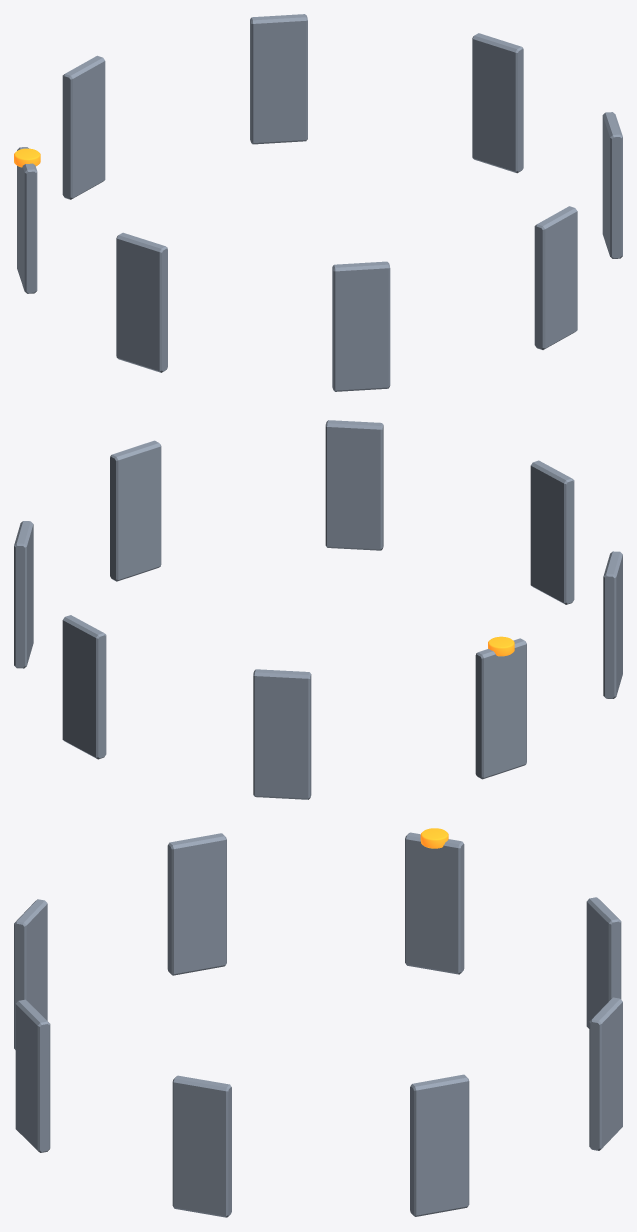
File: tower_overclock_efficiency_s2.glb
3 renders of one model, top to bottom at view 1: azimuth 30°, elevation 25°; view 2: azimuth 150°, elevation 25°; view 3: azimuth 270°, elevation 25°, orthographic. The views are drawn at different scales.
Parts seen in each view (by area): view 1: overclock_base_fin6, overclock_base_fin2, overclock_base_fin7, overclock_base_fin3, overclock_base_fin1, overclock_base_fin5, overclock_base_fin4, overclock_base_fin0; view 2: overclock_base_fin1, overclock_base_fin5, overclock_base_fin4, overclock_base_fin0, overclock_base_fin2, overclock_base_fin6, overclock_base_fin3, overclock_base_fin7; view 3: overclock_base_fin4, overclock_base_fin3, overclock_base_fin7, overclock_base_fin0, overclock_base_fin5, overclock_base_fin2, overclock_base_fin1, overclock_base_fin6.
Boxes of the visible parts, bbox=[...] form: overclock_base_fin6: bbox=[332, 261, 390, 391]; overclock_base_fin2: bbox=[250, 14, 307, 144]; overclock_base_fin7: bbox=[116, 232, 167, 372]; overclock_base_fin3: bbox=[472, 33, 523, 173]; overclock_base_fin1: bbox=[62, 55, 105, 199]; overclock_base_fin5: bbox=[534, 206, 577, 349]; overclock_base_fin4: bbox=[602, 112, 622, 258]; overclock_base_fin0: bbox=[17, 147, 37, 293]; overclock_base_fin1: bbox=[253, 669, 311, 799]; overclock_base_fin5: bbox=[325, 420, 383, 550]; overclock_base_fin4: bbox=[110, 440, 161, 581]; overclock_base_fin0: bbox=[475, 638, 526, 779]; overclock_base_fin2: bbox=[62, 615, 106, 759]; overclock_base_fin6: bbox=[530, 460, 574, 604]; overclock_base_fin3: bbox=[14, 521, 33, 668]; overclock_base_fin7: bbox=[603, 551, 622, 698]; overclock_base_fin4: bbox=[172, 1075, 231, 1217]; overclock_base_fin3: bbox=[410, 1074, 469, 1216]; overclock_base_fin7: bbox=[167, 833, 226, 975]; overclock_base_fin0: bbox=[405, 832, 464, 974]; overclock_base_fin5: bbox=[15, 999, 50, 1152]; overclock_base_fin2: bbox=[589, 997, 622, 1150]; overclock_base_fin1: bbox=[586, 897, 621, 1028]; overclock_base_fin6: bbox=[14, 899, 47, 1049].
Bounding box in the file's own units: 1.22 × 0.2982 × 1.22.
